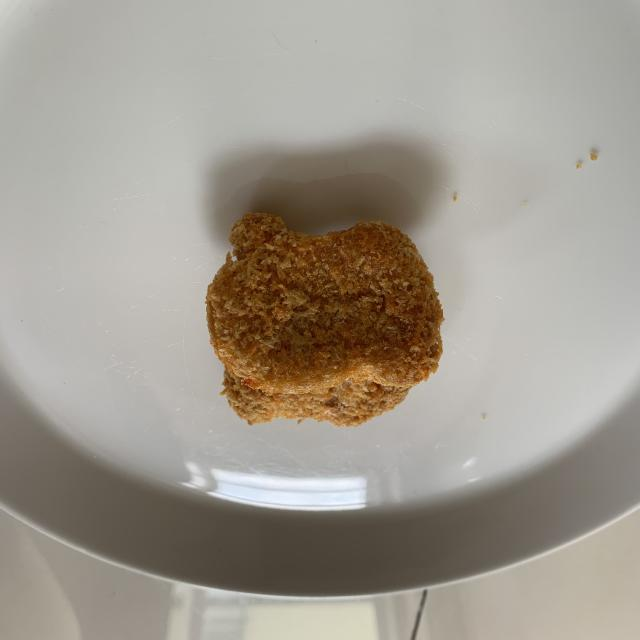Frango: (206, 215, 438, 392), (212, 369, 402, 429)
